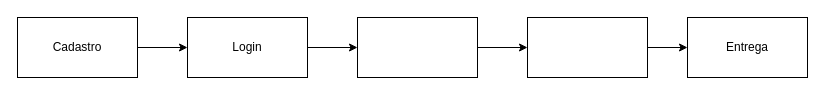
The diagram is 825 pixels wide and 95 high, and some of its shapes have lost their labels. The shapes that lost their labels are listed below. From the top down, each one's centre as x and y in pixels, then its label:
At point (417, 47): "Estoque".
At point (587, 47): "Ordem de Produção".
